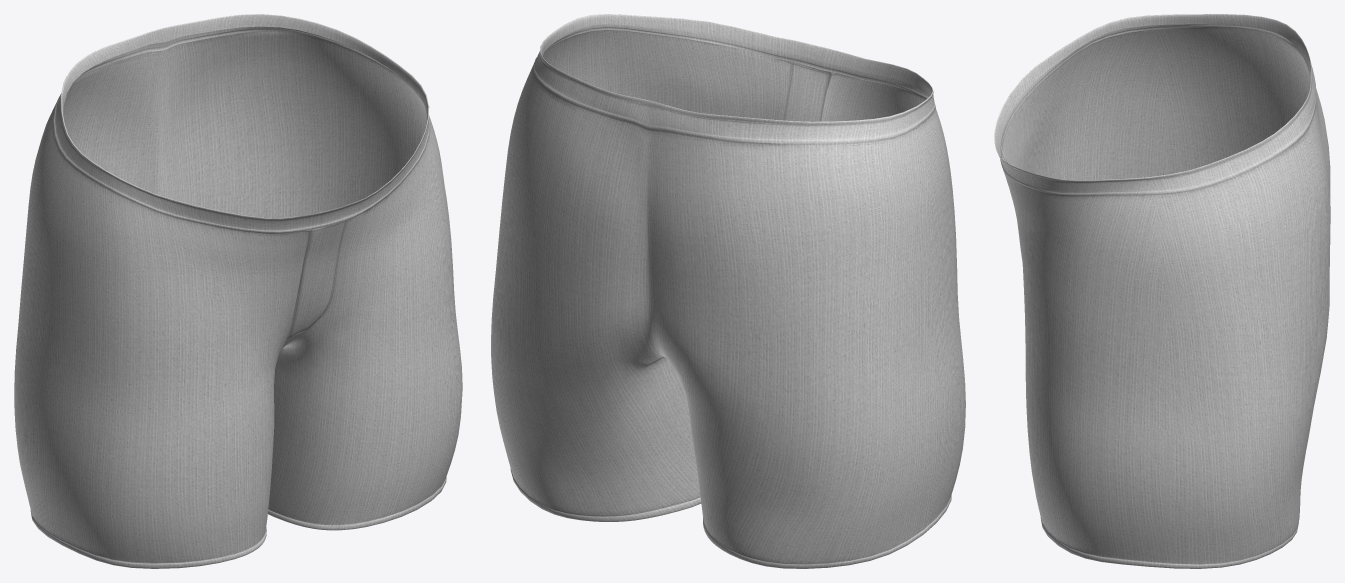
File: Shorts.glb
3 views of the same model, side by side, from view 1: azimuth 30°, elevation 25°; view 2: azimuth 150°, elevation 25°; view 3: azimuth 270°, elevation 25° (orthographic). The views are drawn at different scales.
Parts seen in each view (by area): view 1: Boxers for Genesis; view 2: Boxers for Genesis; view 3: Boxers for Genesis.
Boxes of the visible parts, <box> form: Boxers for Genesis: <box>14,14,462,568</box>; Boxers for Genesis: <box>491,14,965,568</box>; Boxers for Genesis: <box>994,14,1330,568</box>.
Bounding box in the file's own units: 9.37 × 9.49 × 6.98.
4 materials, 4 textured.
